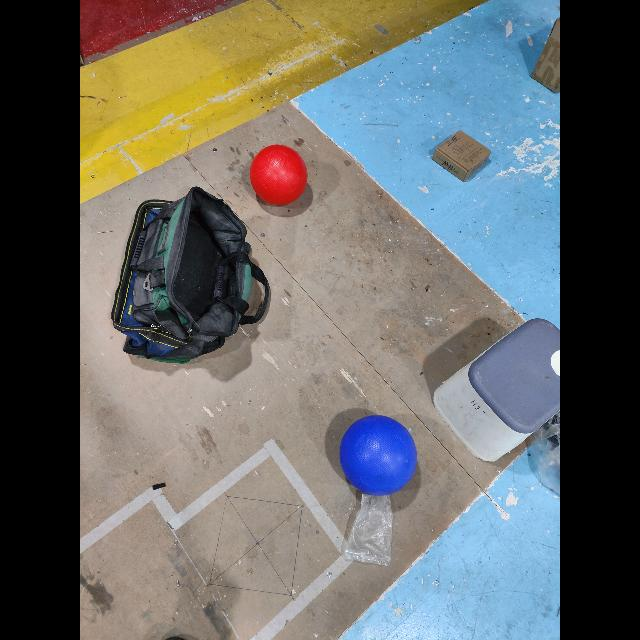B: (338, 412, 418, 496)
R: (248, 144, 310, 206)
